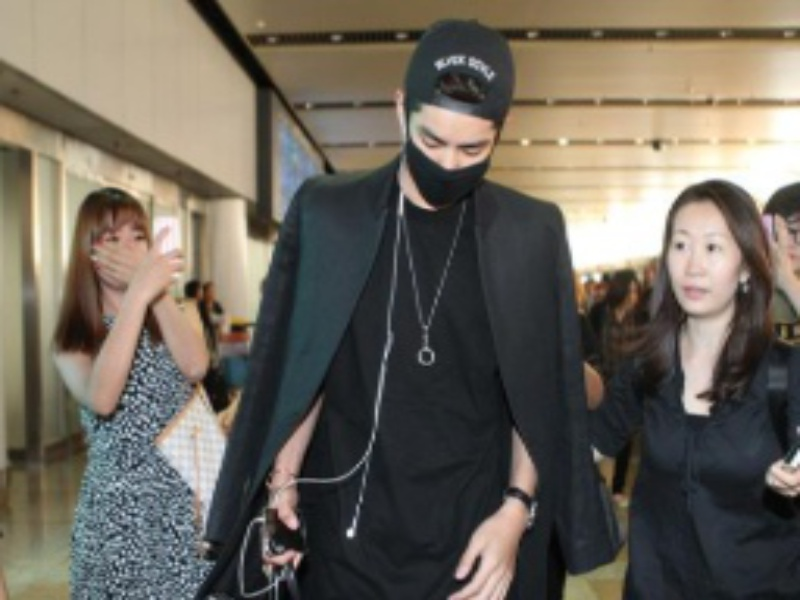ManaoArotava: (385, 51, 506, 221)
TsisyArotava: (650, 171, 751, 344)
